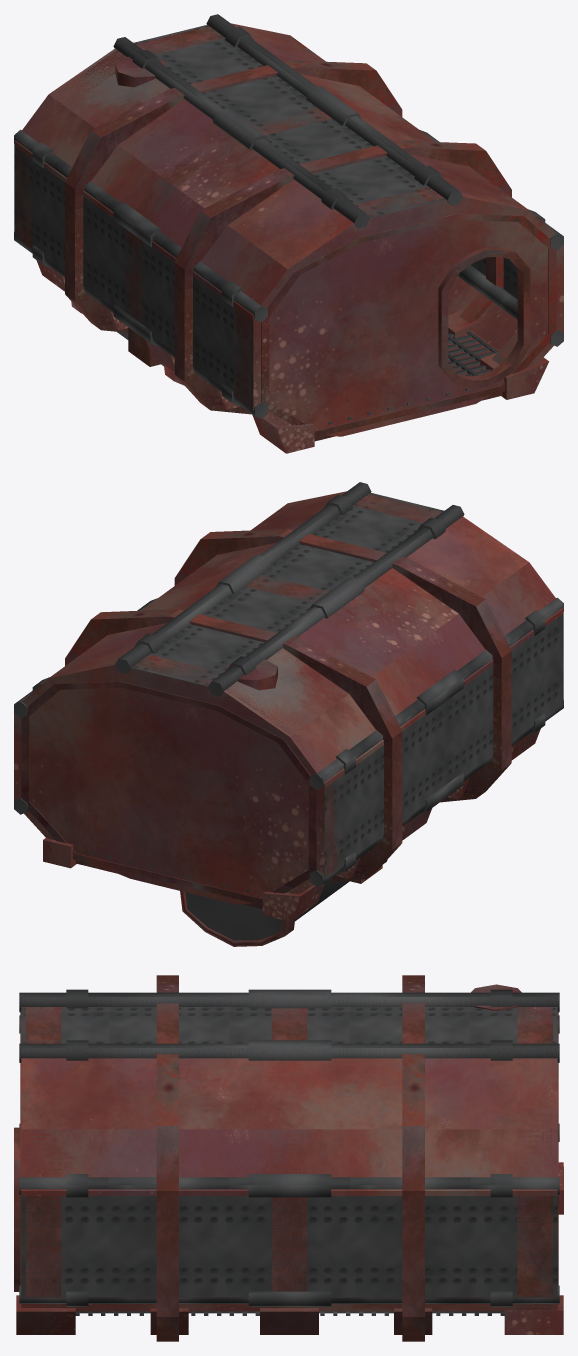
The model's file is Engine_Room.obj.
3 renders of one model, top to bottom at view 1: azimuth 30°, elevation 25°; view 2: azimuth 150°, elevation 25°; view 3: azimuth 270°, elevation 25°, orthographic. The views are drawn at different scales.
Parts seen in each view (by area): view 1: Cube.011; view 2: Cube.011; view 3: Cube.011.
Part boxes in pixels (x1,y1,x2,y2): Cube.011: (14,14,563,453); Cube.011: (14,482,563,946); Cube.011: (14,975,563,1341).
Bounding box in the file's own units: 6.32 × 5.03 × 8.2.
Materials: 4 (4 with a texture image).
